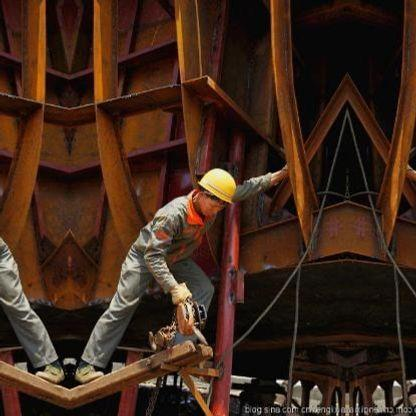helmet: (203, 167, 235, 199)
